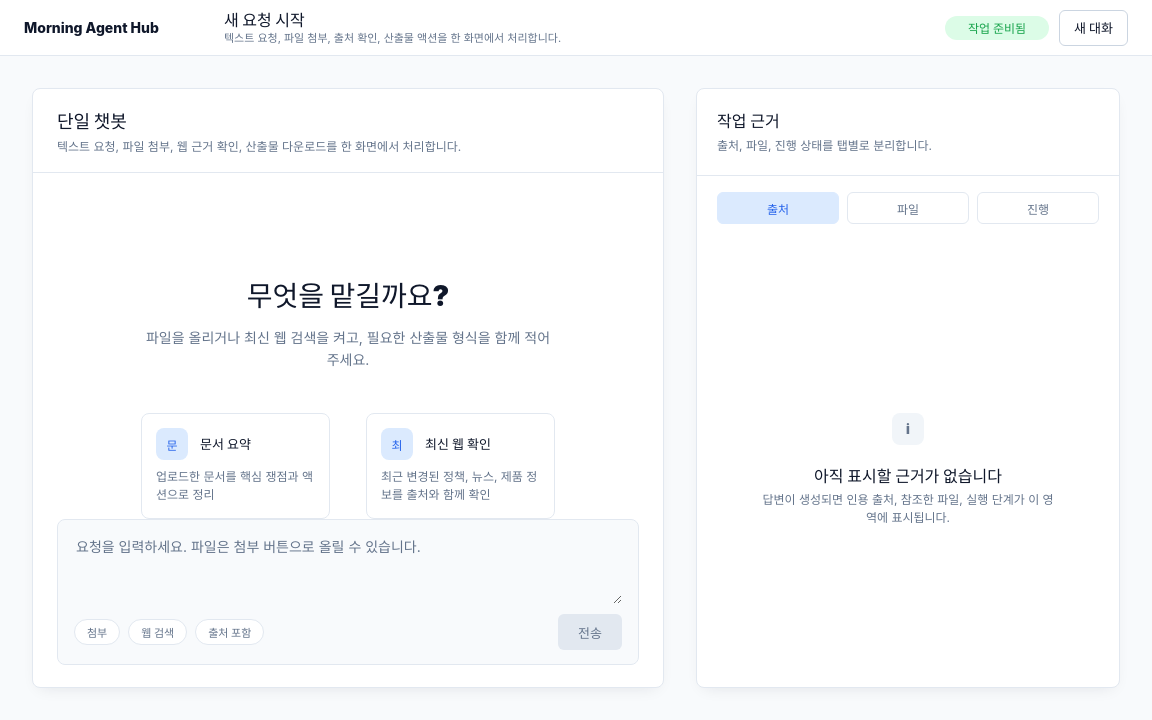
Test: ChatShell › sends a draft and renders assistant answer
This screenshot has width=1152, height=720.
Type "휴가 규정 알려줘" into the text box with placeholder "요청을 입력하세요. 파일은 첨부 버튼으로 올릴 수 있습니다." at {"x": 348, "y": 569}, box [74,534,622,604]
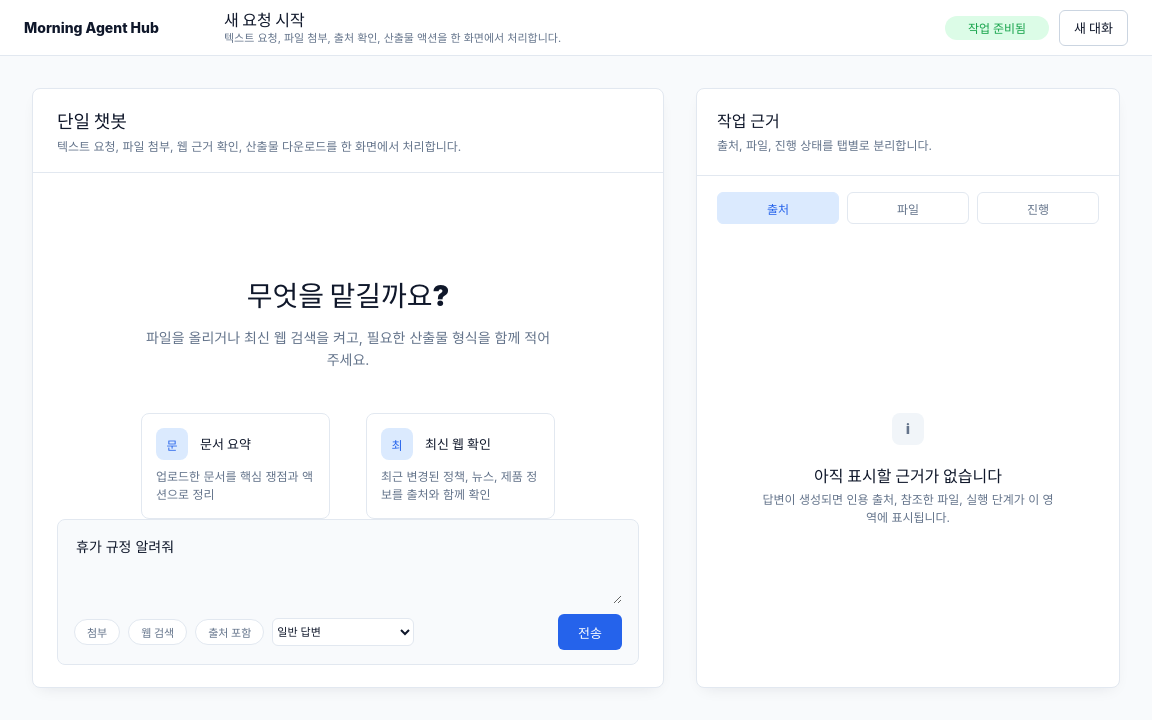
Click the button with test id "send-button" at {"x": 590, "y": 632}, box [558,614,622,650]
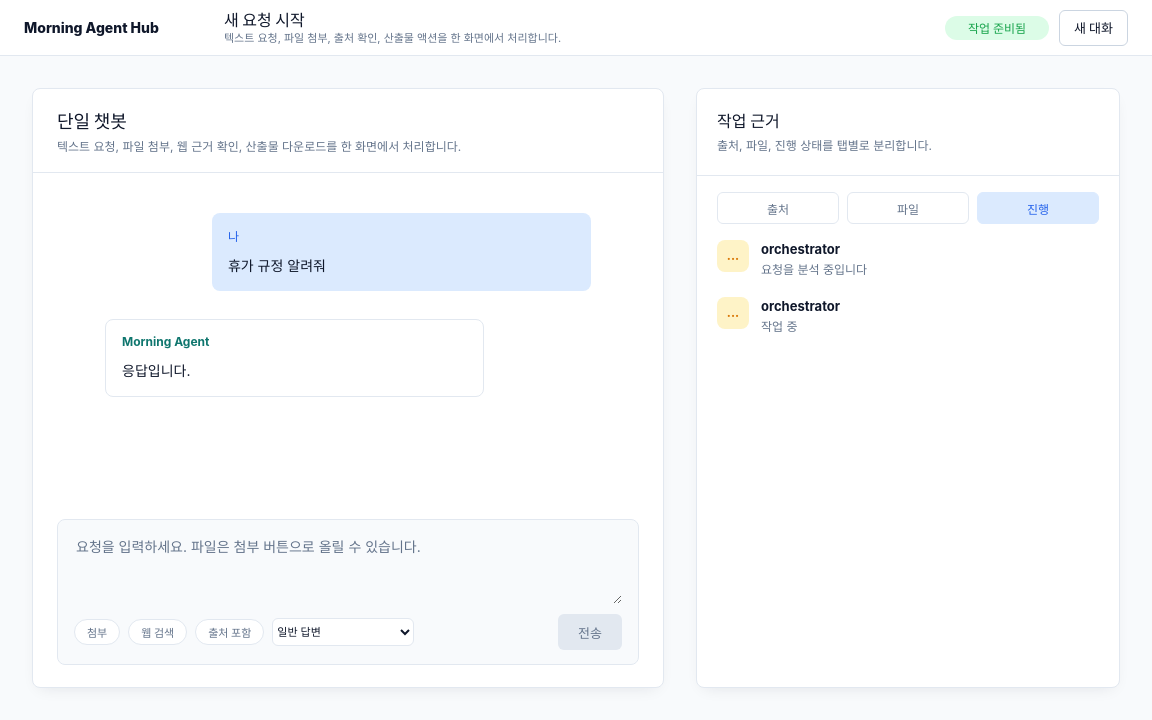
Expected: the text "휴가 규정 알려줘" is shown, [228,257,326,274]
Expected: the text "응답입니다." is shown, [122,362,190,379]
